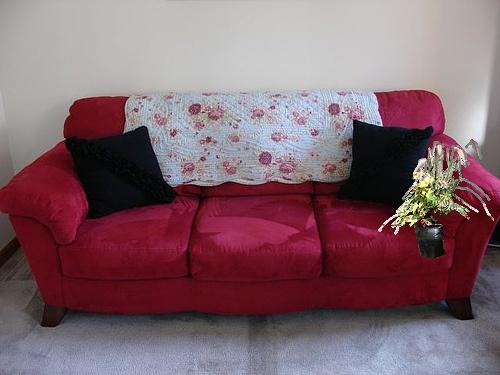tampered: (379, 140, 494, 258)
